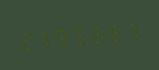eight: (107, 17, 124, 45)
five: (71, 20, 88, 49)
nine: (53, 22, 70, 50)
seven: (35, 23, 52, 52), (125, 16, 142, 44)
six: (89, 19, 106, 47)
two: (17, 25, 34, 53)
